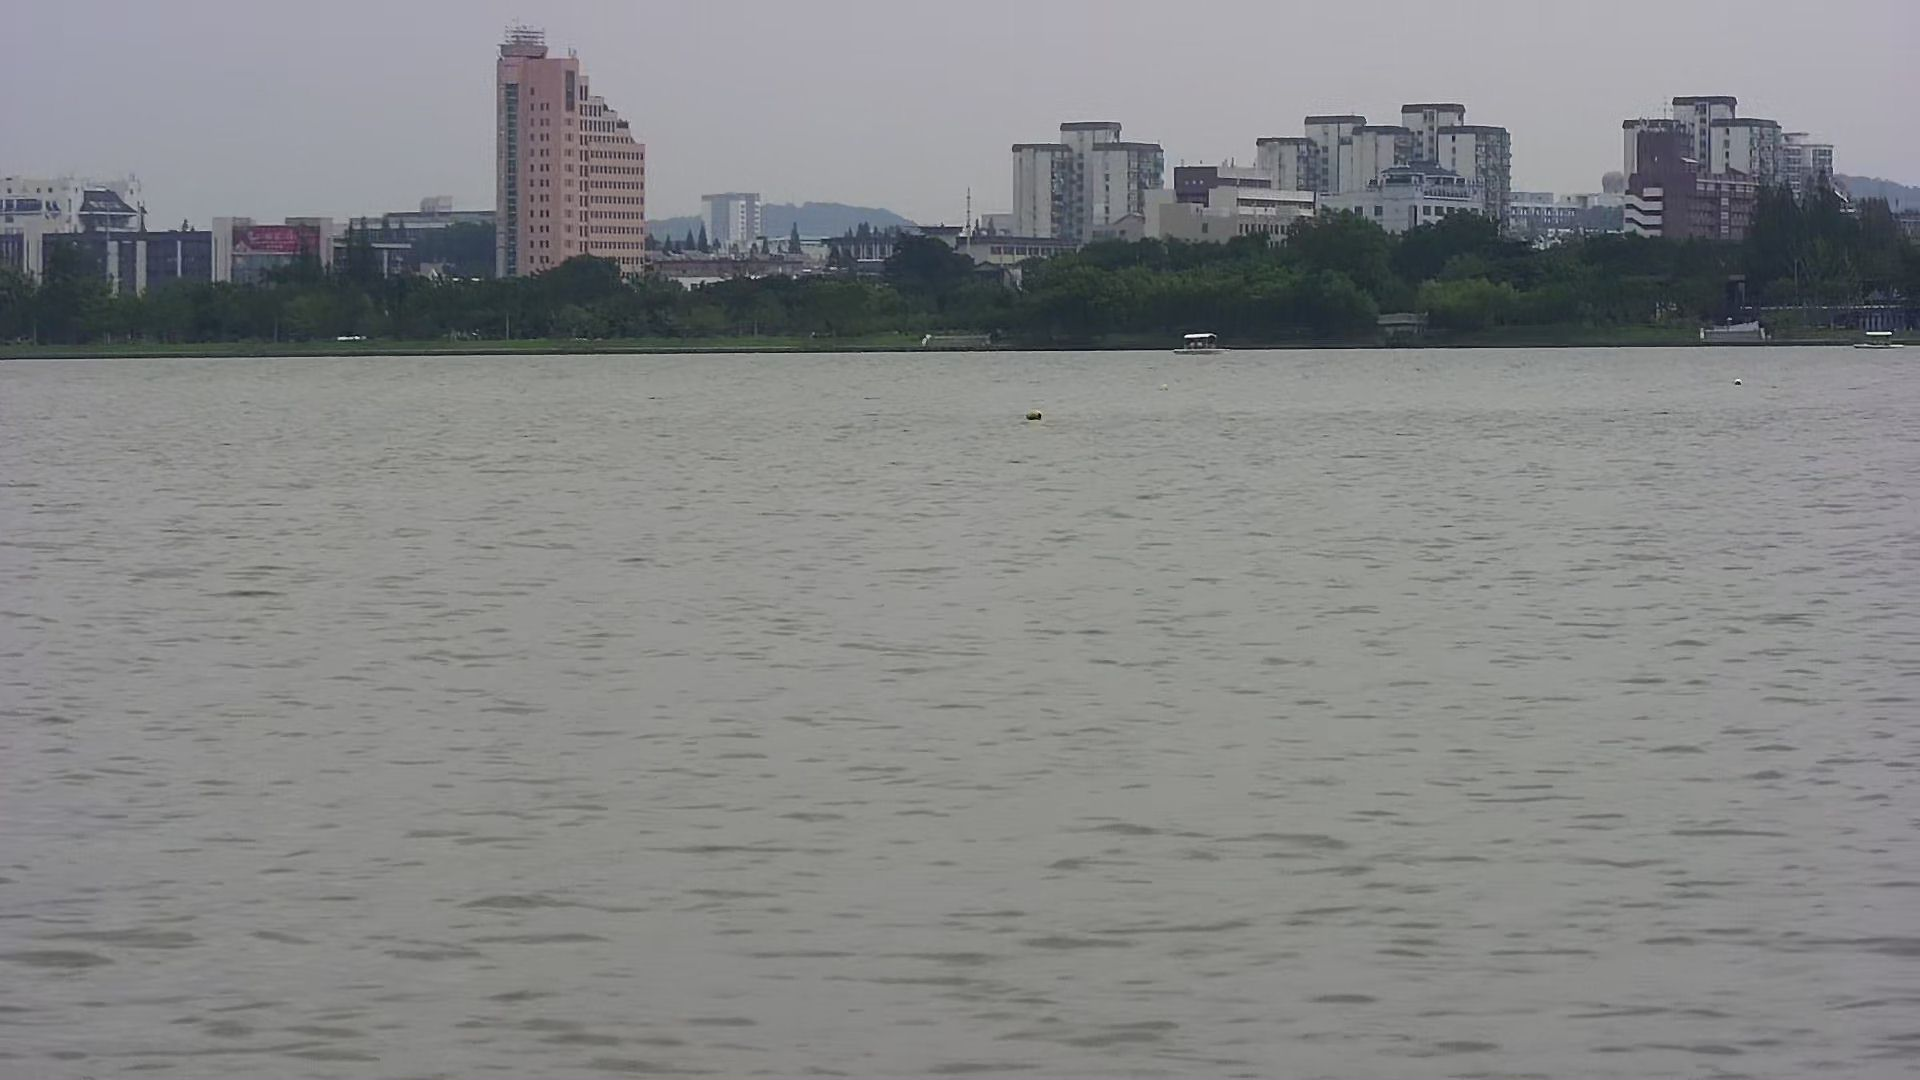boat: (1167, 330, 1221, 353)
rubbish: (1022, 407, 1044, 421)
